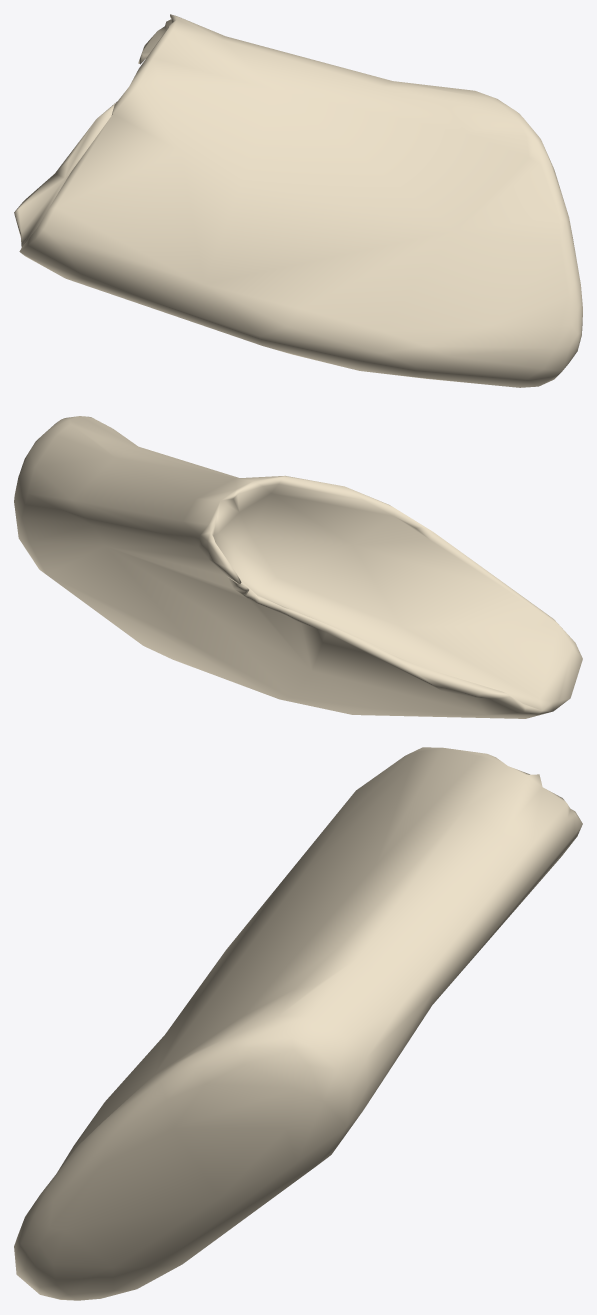
The model's file is costal-cartilage-of-first-rib-r.glb.
3 views of the same model, one above another, from view 1: azimuth 30°, elevation 25°; view 2: azimuth 150°, elevation 25°; view 3: azimuth 270°, elevation 25° (orthographic). The views are drawn at different scales.
Parts seen in each view (by area): view 1: Costal cartilage of first rib.r; view 2: Costal cartilage of first rib.r; view 3: Costal cartilage of first rib.r.
Boxes of the visible parts, left/top/right/bottom form: Costal cartilage of first rib.r: left=14, top=14, right=582, bottom=387; Costal cartilage of first rib.r: left=14, top=416, right=582, bottom=718; Costal cartilage of first rib.r: left=14, top=747, right=582, bottom=1300.
Bounding box in the file's own units: 0.0309 × 0.0191 × 0.0243.
